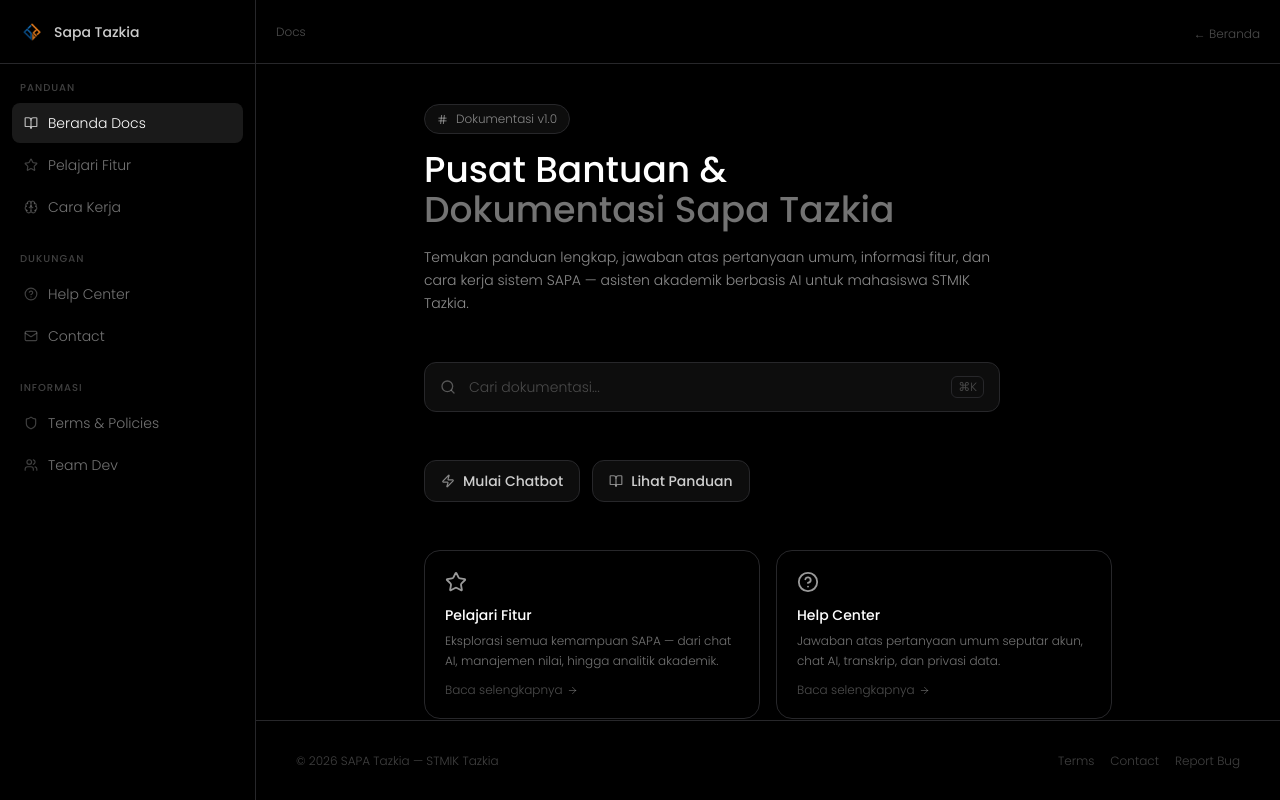
DocsPage › navigates to Fitur page via sidebar
Click the button "Pelajari Fitur" at (128, 165), box x1=12 y1=145 x2=243 y2=185
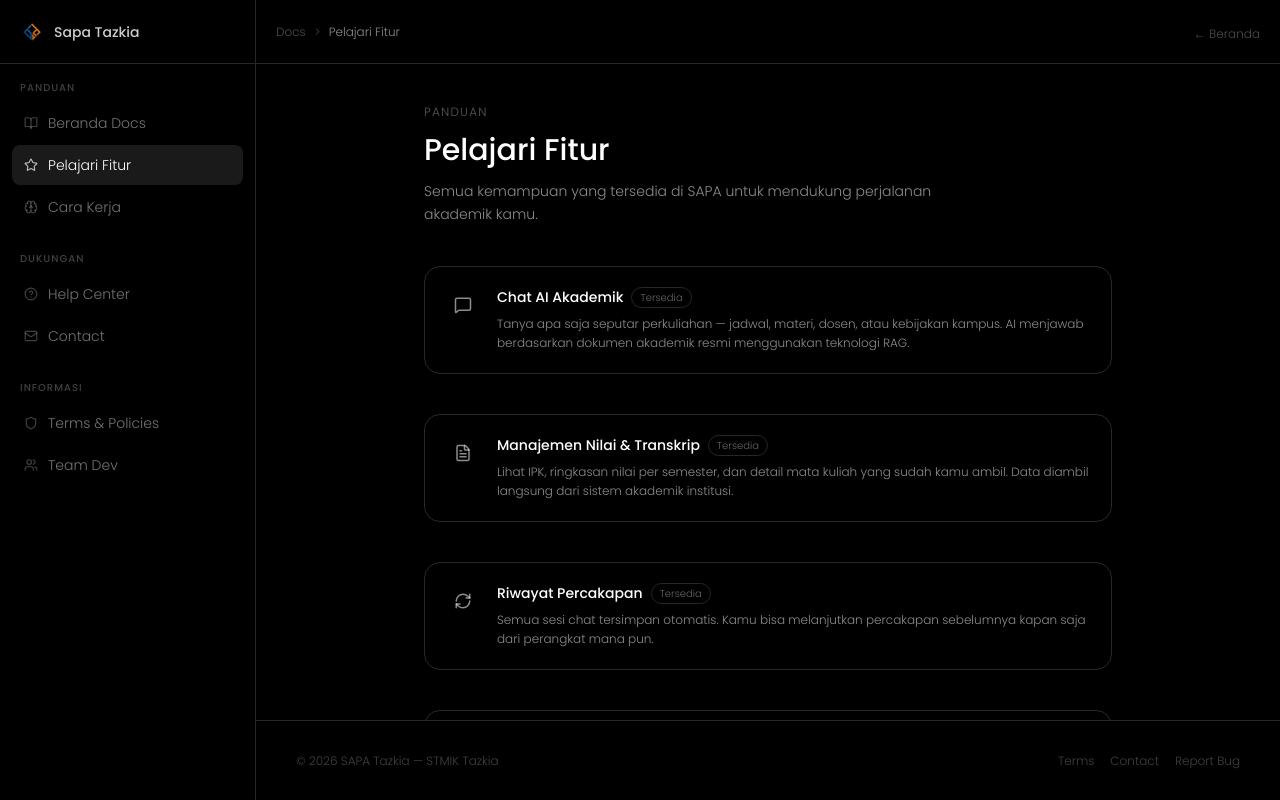
Check: the text "Semua kemampuan yang tersedia di SAPA" is shown, box x1=424 y1=181 x2=931 y2=224
